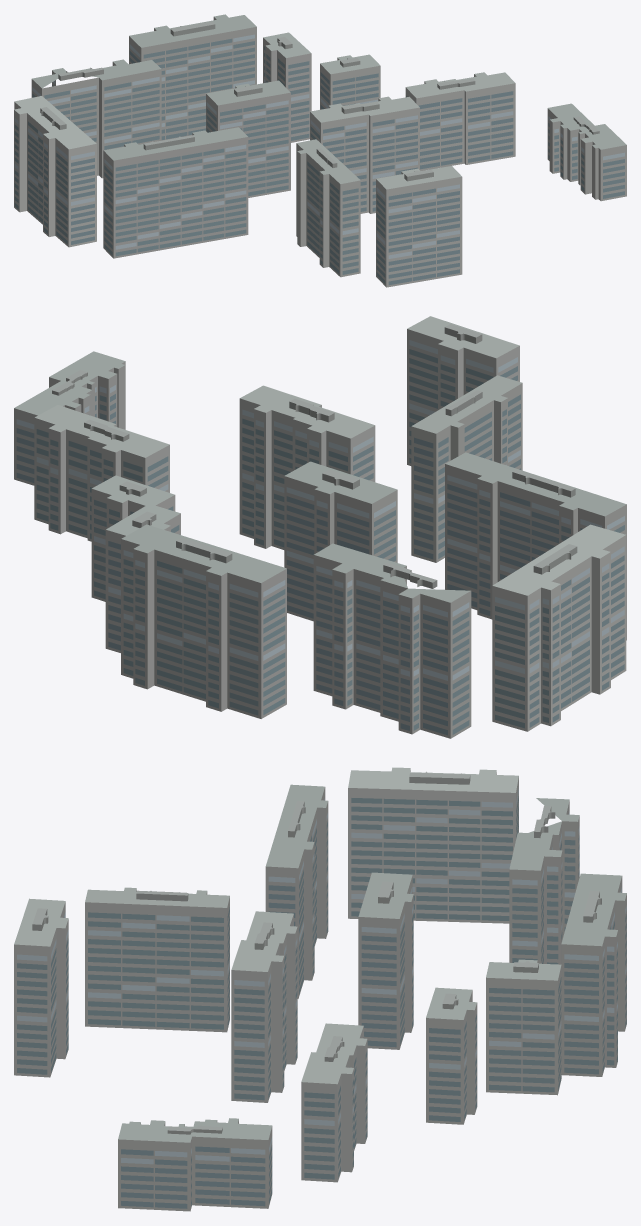
Rendered from apt-a13607101.glb.
The picture shows the model from 3 angles, top to bottom: view 1: azimuth 30°, elevation 25°; view 2: azimuth 150°, elevation 25°; view 3: azimuth 270°, elevation 25°; orthographic projection. The views are drawn at different scales.
Parts seen in each view (by area): view 1: apt-a13607101; view 2: apt-a13607101; view 3: apt-a13607101.
Boxes of the visible parts, <box> form: apt-a13607101: <box>14,14,626,287</box>; apt-a13607101: <box>14,316,626,738</box>; apt-a13607101: <box>14,767,626,1211</box>.
Bounding box in the file's own units: 196 × 40 × 162.
